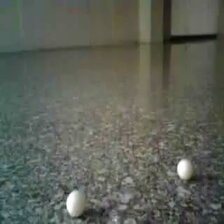w: (66, 189, 87, 217), (177, 158, 193, 180)
